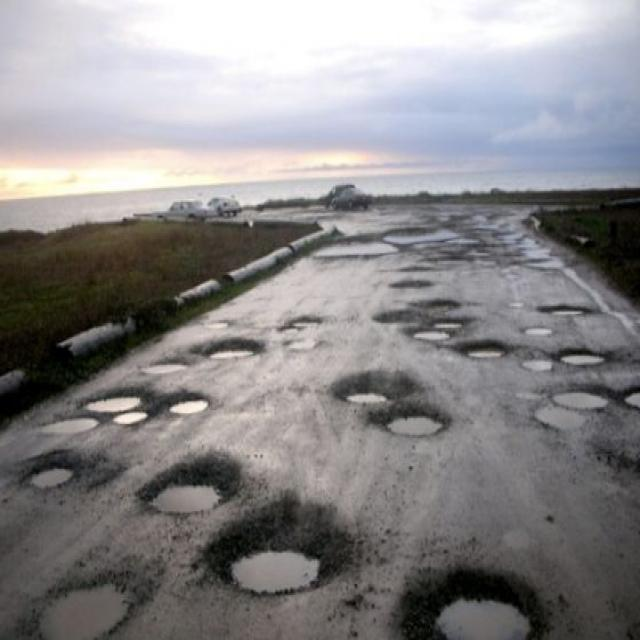pothole: (208, 503, 358, 598), (400, 562, 544, 638), (28, 566, 148, 638), (137, 449, 257, 516), (530, 380, 612, 436), (326, 368, 412, 404), (368, 400, 456, 434), (26, 450, 80, 492), (196, 332, 267, 363), (80, 384, 148, 414), (410, 312, 470, 345), (36, 413, 105, 435), (170, 390, 219, 415), (555, 346, 607, 368), (459, 338, 514, 356), (112, 408, 150, 424)
